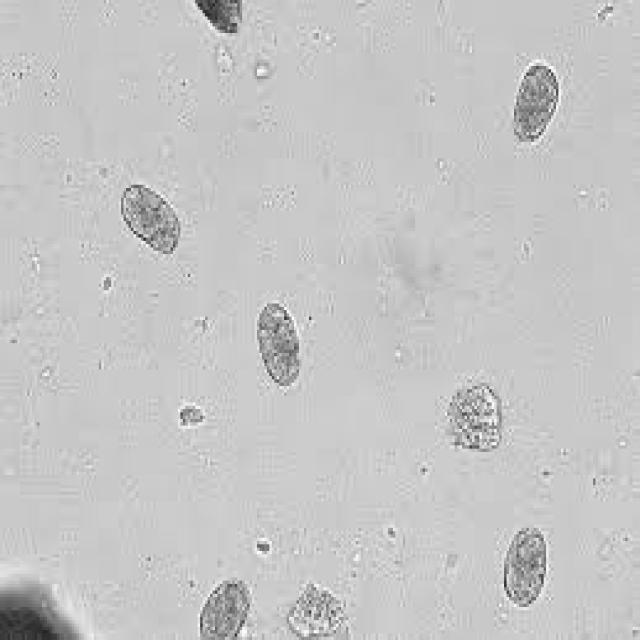Ancylostoma Spp: (238, 280, 308, 392), (503, 41, 567, 160), (112, 173, 186, 262), (499, 518, 554, 614), (195, 574, 255, 637)
